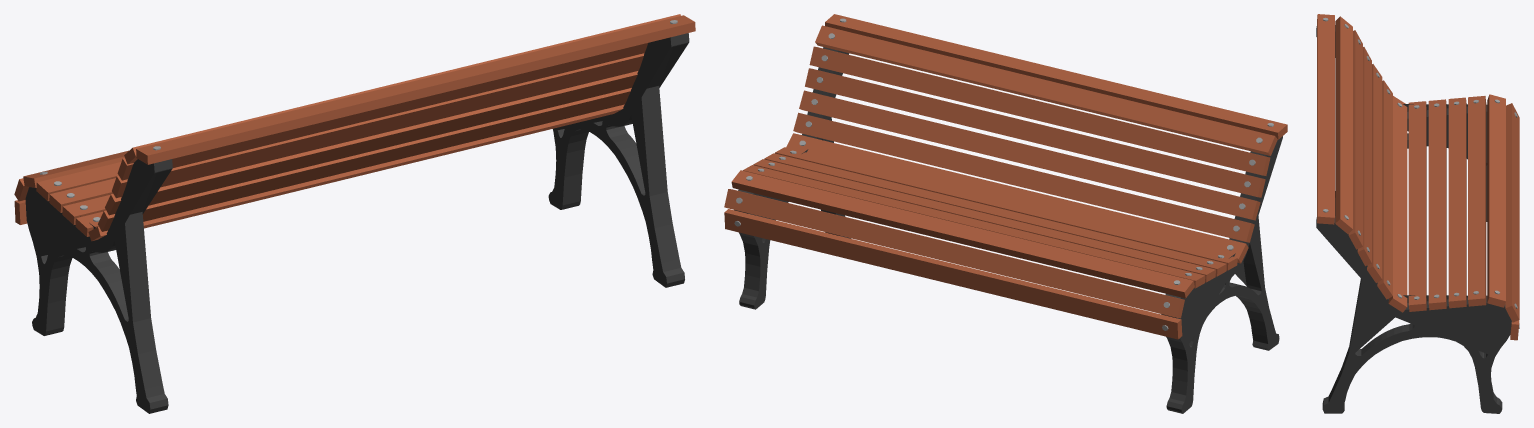
The model's file is Bench.fbx.
The picture shows the model from 3 angles, left to right: view 1: azimuth 30°, elevation 25°; view 2: azimuth 150°, elevation 25°; view 3: azimuth 270°, elevation 25°; orthographic projection. The views are drawn at different scales.
Visible parts, largest first — view 1: Bench; view 2: Bench; view 3: Bench.
Boxes of the visible parts, bbox=[...] form: Bench: bbox=[14, 14, 695, 413]; Bench: bbox=[724, 14, 1287, 413]; Bench: bbox=[1316, 14, 1519, 413].
Bounding box in the file's own units: 200 × 92.23 × 84.92.
